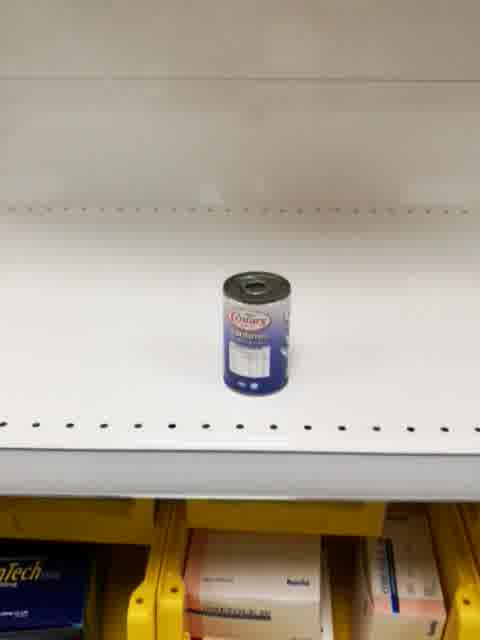sardine: (221, 269, 293, 397)
